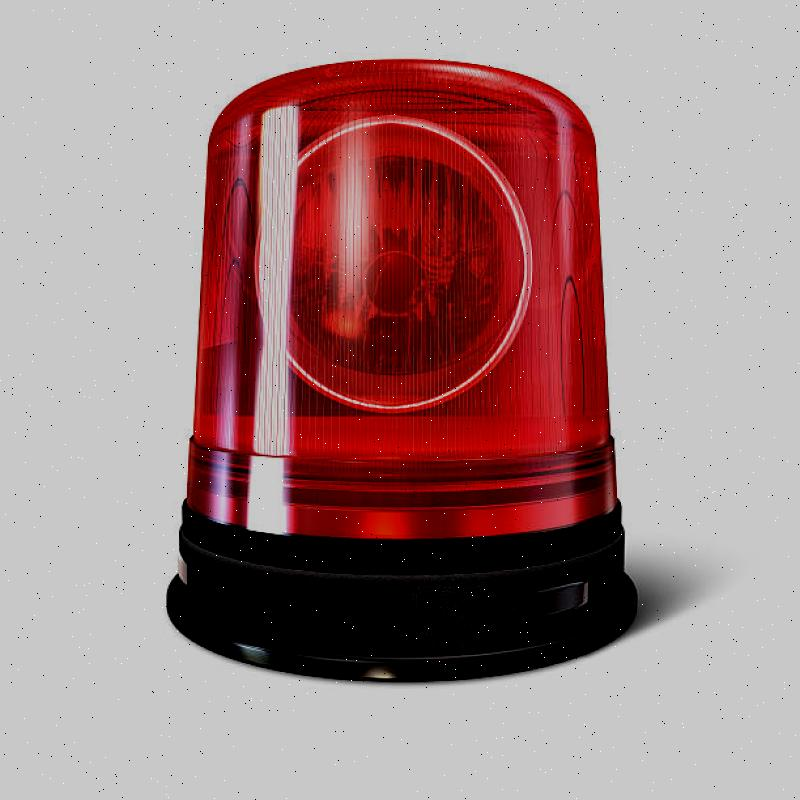AmbulanceSiren: (103, 57, 665, 687)
